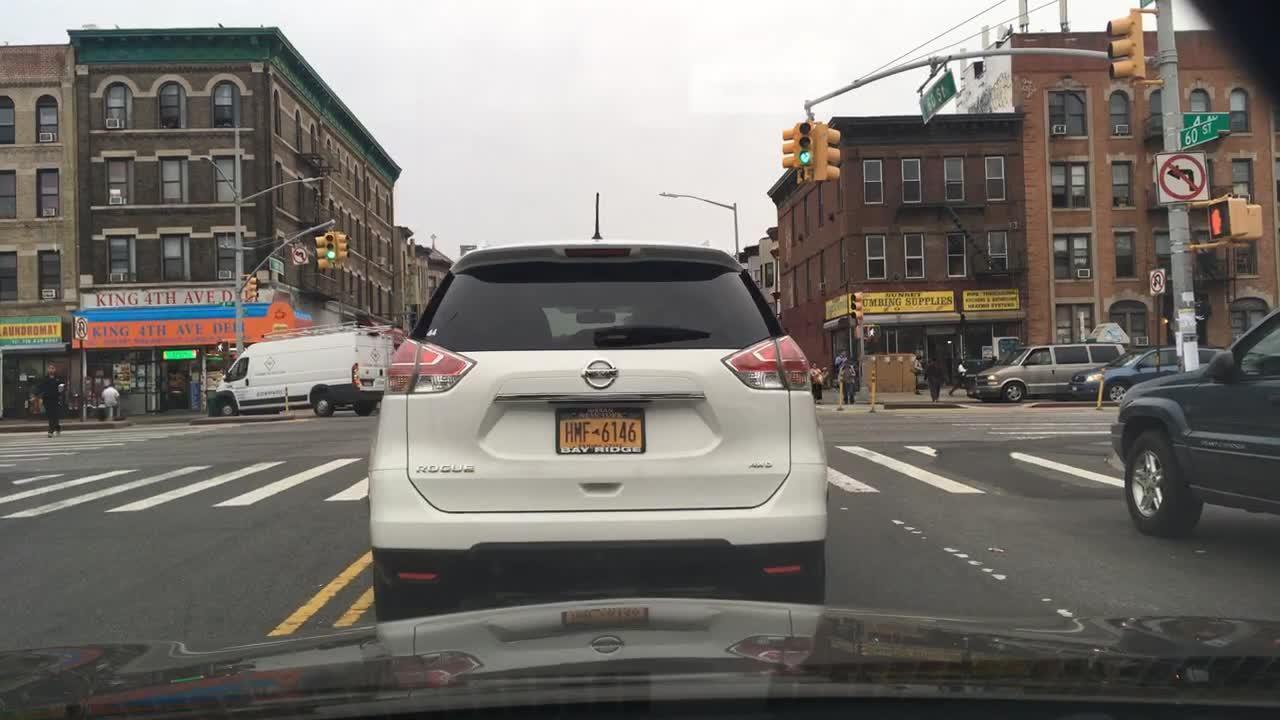Nissan: (575, 350, 632, 402)
